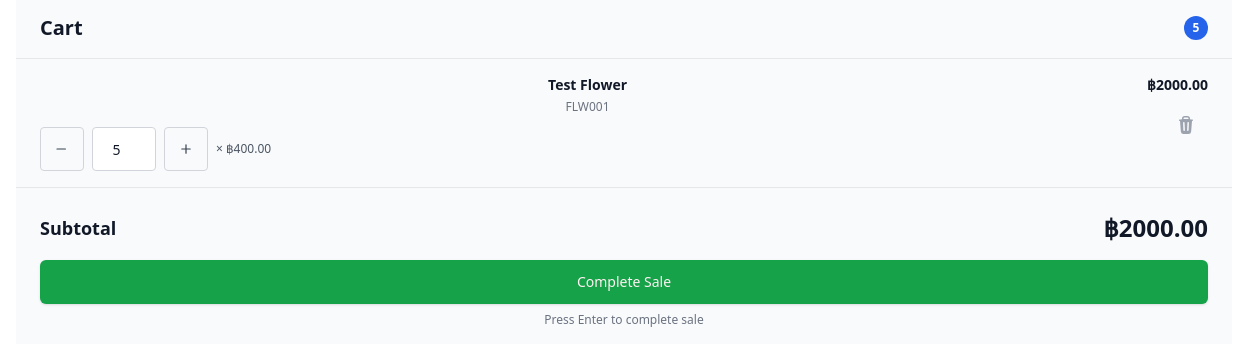
Test: CartSidebar - Story 1.7 Complete Sale › shows loading spinner during transaction processing
This screenshot has width=1249, height=344.
What coordinates should you click on to do the following:
click the button "Complete Sale"
I would click on:
 (624, 282)
Its box is [40,260,1208,304].
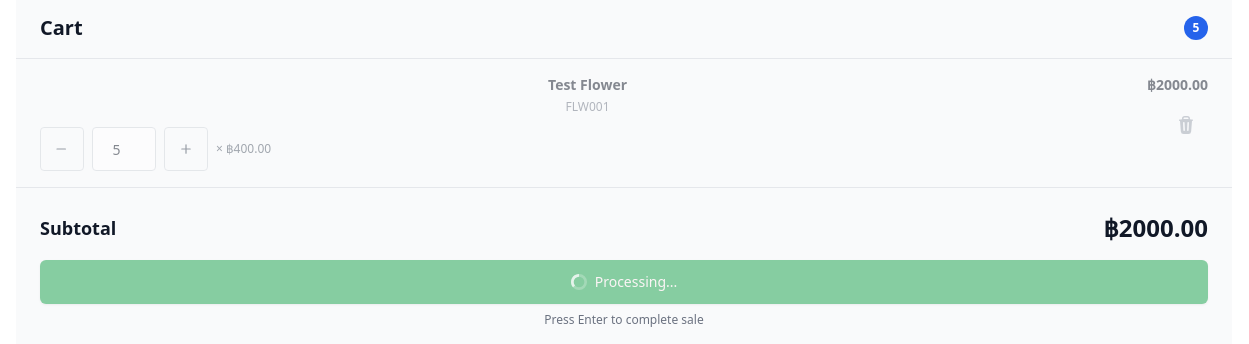
Result: the button with aria-label "complete sale" is disabled at [40,260,1208,304]
